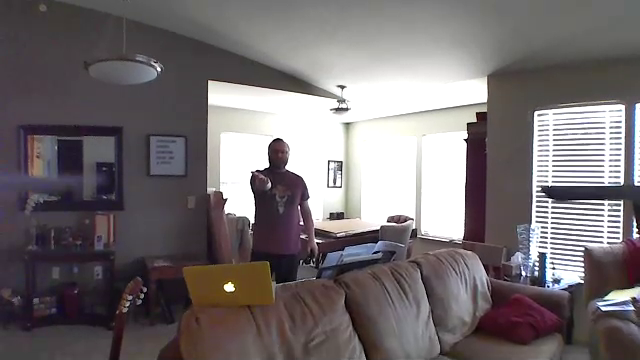land: (248, 169, 277, 191)
